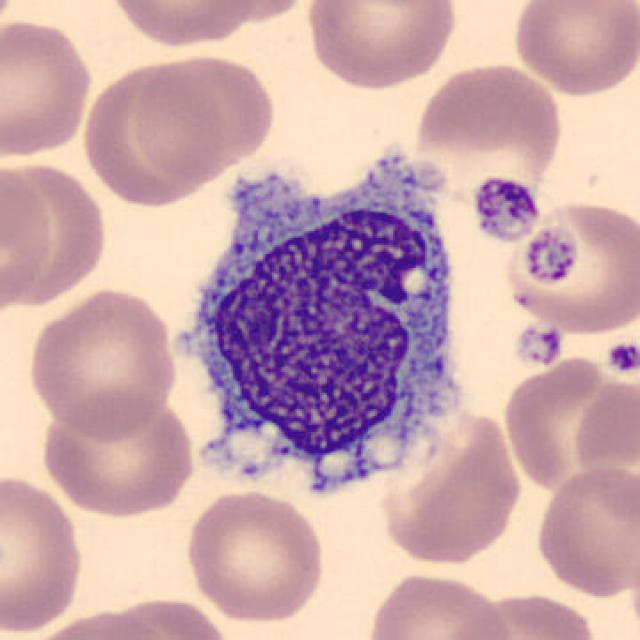Monocyte: (165, 146, 482, 508)
Platelets: (470, 174, 542, 247), (519, 226, 581, 289), (510, 322, 566, 368), (604, 338, 638, 378)
RBC: (23, 284, 181, 439), (76, 56, 226, 210), (36, 390, 199, 520), (409, 58, 567, 192), (181, 487, 329, 626), (128, 49, 279, 185), (499, 352, 636, 496), (505, 195, 638, 338), (532, 462, 638, 601), (302, 0, 460, 93), (0, 471, 89, 636), (0, 14, 96, 161), (508, 0, 638, 99), (361, 569, 514, 640), (0, 157, 62, 319), (103, 0, 266, 49), (466, 587, 604, 640), (94, 592, 242, 640), (16, 606, 174, 640), (199, 0, 317, 30)
